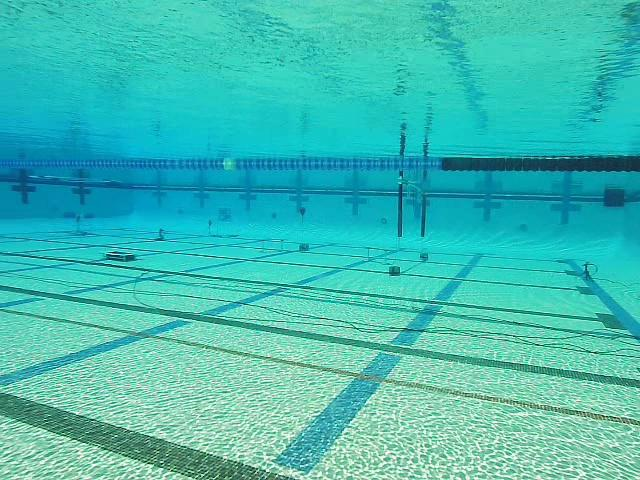dropper: (103, 250, 138, 261)
gate_leg_l: (398, 169, 404, 237)
gate_leg_r: (420, 192, 427, 236)
table: (62, 212, 95, 233)
torpedo: (216, 206, 234, 223)
